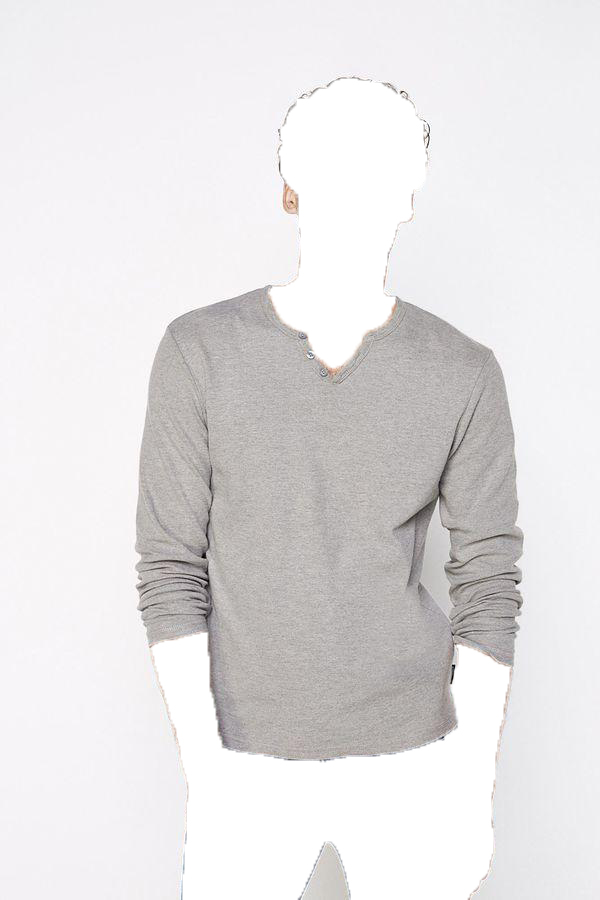teeshirt: (131, 288, 527, 762)
